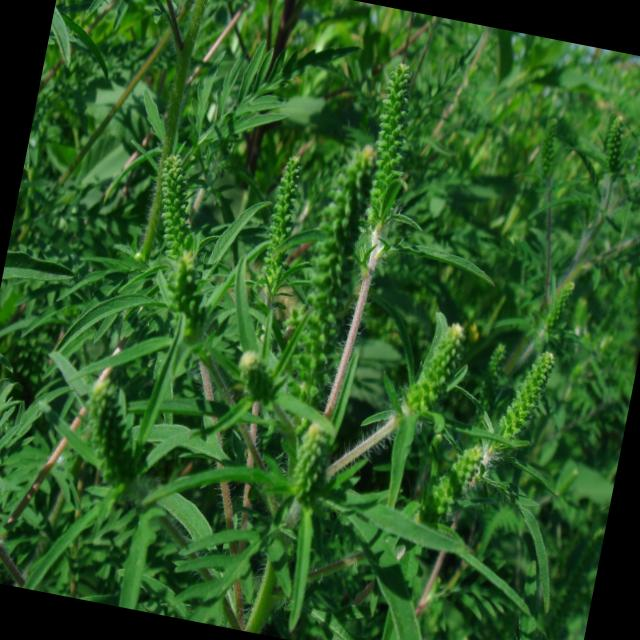ambrosia: (363, 226, 581, 548), (210, 122, 402, 460), (95, 89, 237, 349), (330, 29, 470, 236), (524, 40, 640, 249)
